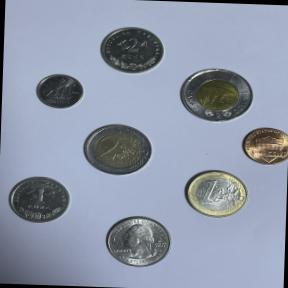1 Euro: (180, 166, 253, 220)
2 Euro: (79, 119, 155, 180)
Canda-10cent-: (31, 69, 89, 114)
Canda-2Dollar-: (174, 64, 256, 126)
Croatia-2Kune-: (96, 24, 168, 78)
US-1cent-: (238, 124, 288, 169)
US-25cent-: (100, 213, 177, 270)
